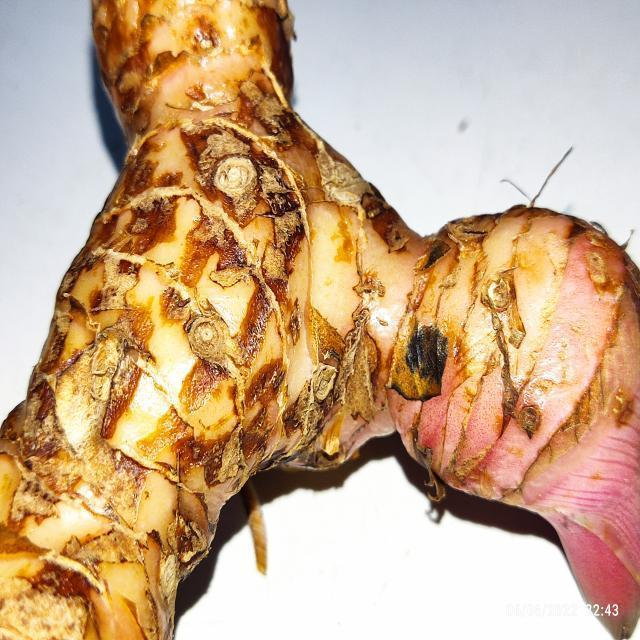ginger: (28, 20, 622, 587)
